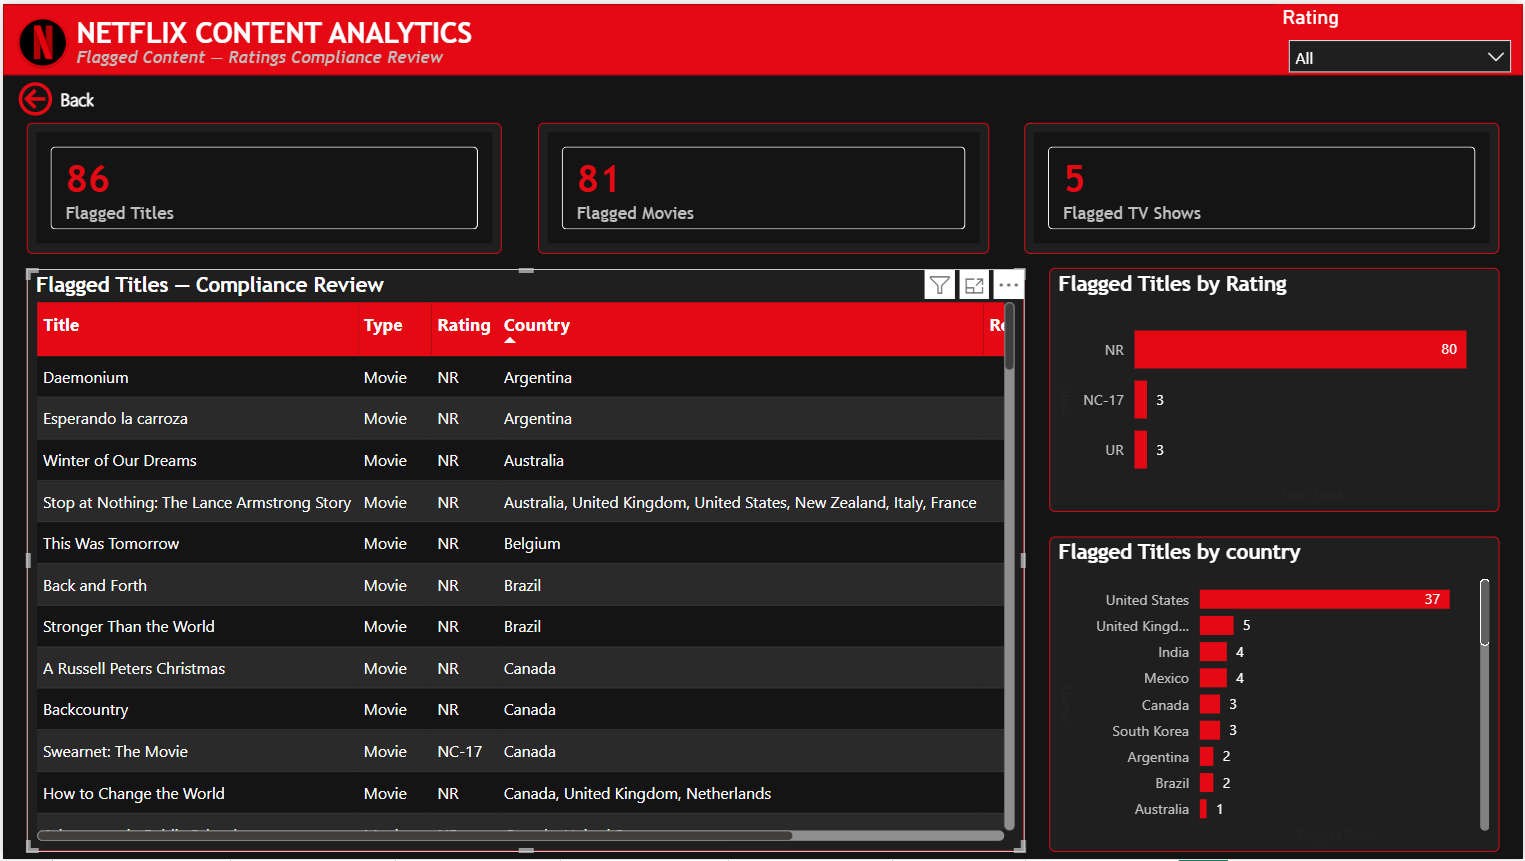

What the dashboard file says about the page in this screenshot:
{"tool":"powerbi","page":{"name":"Flagged Content","canvas":[1280,720],"ordinal":4},"visuals":[{"type":"shape","box":[0,0,1280,60],"z":0},{"type":"textbox","box":[57,5,346,38],"z":1000},{"type":"image","box":[9,7,48,49],"z":2000},{"type":"textbox","box":[57,30,319,29],"z":3000},{"type":"cardVisual","fields":{"Data":["_Measures.Flagged Titles"]},"box":[20,100.1,400,110],"z":4000},{"type":"cardVisual","fields":{"Data":["_Measures.Flagged Movies"]},"box":[450,100.1,380,110],"z":5000},{"type":"cardVisual","fields":{"Data":["_Measures.Flagged TV Shows"]},"box":[860,100.2,400,110],"z":6000},{"type":"tableEx","title":"Flagged Titles — Compliance Review","fields":{"Values":["netflix_titles.title","netflix_titles.type","netflix_titles.rating","netflix_titles.country","netflix_titles.release_year","netflix_titles.primary_genre"]},"box":[20,223.6,840,490],"z":7000},{"type":"clusteredBarChart","title":"Flagged Titles by Rating","fields":{"Category":["netflix_titles.rating"],"Y":["_Measures.Total Titles"]},"box":[881.1,222.4,378.9,205.6],"z":7001},{"type":"clusteredBarChart","fields":{"Category":["netflix_titles.country"],"Y":["_Measures.Flagged Titles"]},"box":[881.1,448,378.9,265.6],"z":7002},{"type":"slicer","title":"Rating","fields":{"Values":["netflix_titles.rating"]},"box":[1071.1,0,208.9,58.9],"z":7003},{"type":"actionButton","box":[8.9,61.1,72.2,37.8],"z":7004}]}

Visuals, with their boxes in screenshot pixels (x1, y1, x2, y2), scaled from the page's 1280x720 canvas onto the 1525x861 screenshot:
shape: Rect(0, 0, 1524, 72)
textbox: Rect(68, 6, 480, 51)
image: Rect(11, 8, 68, 67)
textbox: Rect(68, 36, 448, 71)
cardVisual - _Measures.Flagged Titles: Rect(24, 120, 500, 251)
cardVisual - _Measures.Flagged Movies: Rect(536, 120, 989, 251)
cardVisual - _Measures.Flagged TV Shows: Rect(1025, 120, 1501, 251)
"Flagged Titles — Compliance Review" tableEx: Rect(24, 267, 1025, 853)
"Flagged Titles by Rating" clusteredBarChart: Rect(1050, 266, 1501, 512)
clusteredBarChart - netflix_titles.country x _Measures.Flagged Titles: Rect(1050, 536, 1501, 853)
"Rating" slicer: Rect(1276, 0, 1524, 70)
actionButton: Rect(11, 73, 97, 118)
